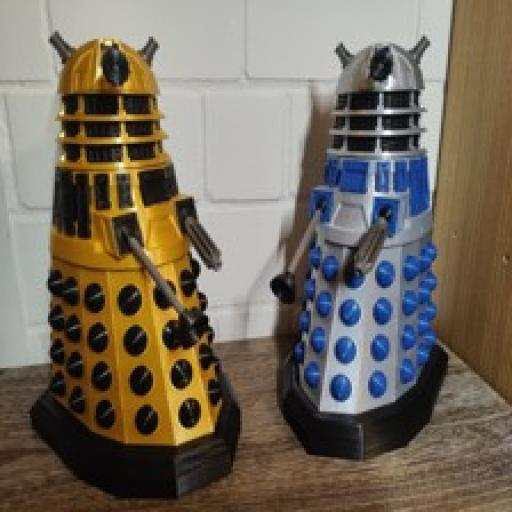dalek: (28, 29, 242, 501), (267, 37, 447, 466)
